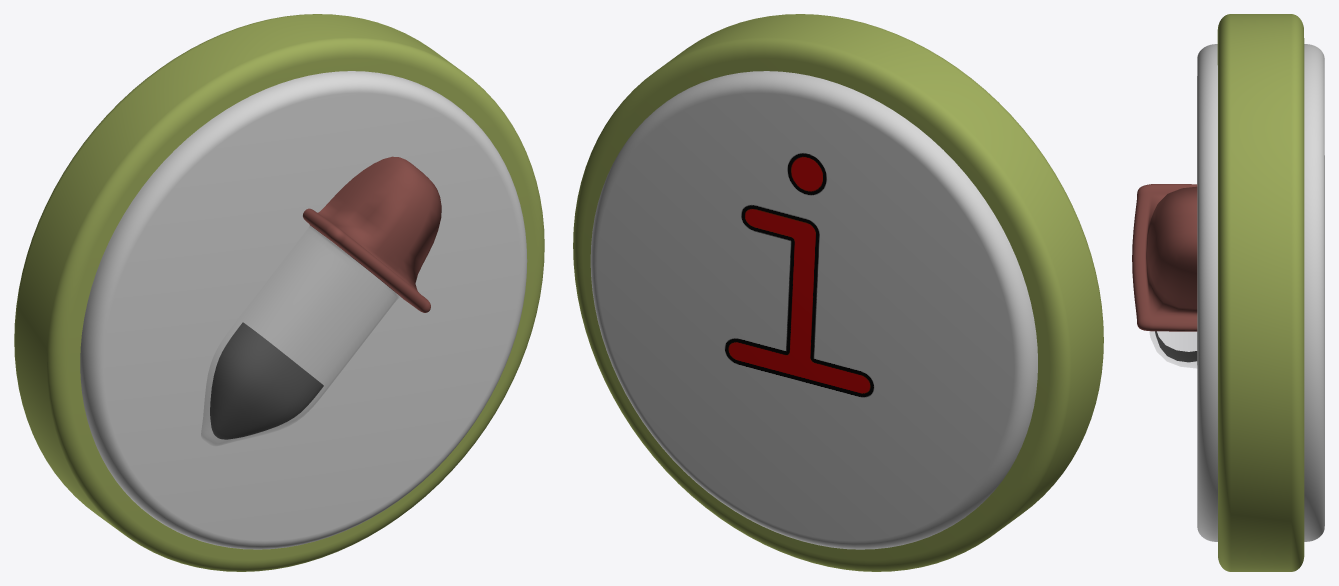
Rendered from ink.gltf.
3 renders of one model, left to right at view 1: azimuth 30°, elevation 25°; view 2: azimuth 150°, elevation 25°; view 3: azimuth 270°, elevation 25°, orthographic. The views are drawn at different scales.
Visible parts, largest first — view 1: Cylinder_2, Cylinder.001, Cube, Cube.001; view 2: Cylinder_2, Cylinder.001; view 3: Cylinder.001, Cylinder_2, Cube, Cube.001.
Boxes of the visible parts, box(x1,y1,x2,y2) form: Cylinder_2: box(80, 71, 527, 549); Cylinder.001: box(14, 14, 544, 571); Cube: box(201, 156, 441, 445); Cube.001: box(210, 322, 323, 439); Cylinder_2: box(590, 71, 1037, 549); Cylinder.001: box(573, 14, 1103, 571); Cylinder.001: box(1217, 14, 1304, 571); Cylinder_2: box(1197, 44, 1324, 541); Cube: box(1132, 184, 1197, 368); Cube.001: box(1155, 331, 1197, 362).
Size of what is drawn, in the model's own units: 2.56 by 2.56 by 0.8837.
5 materials, 1 textured.
